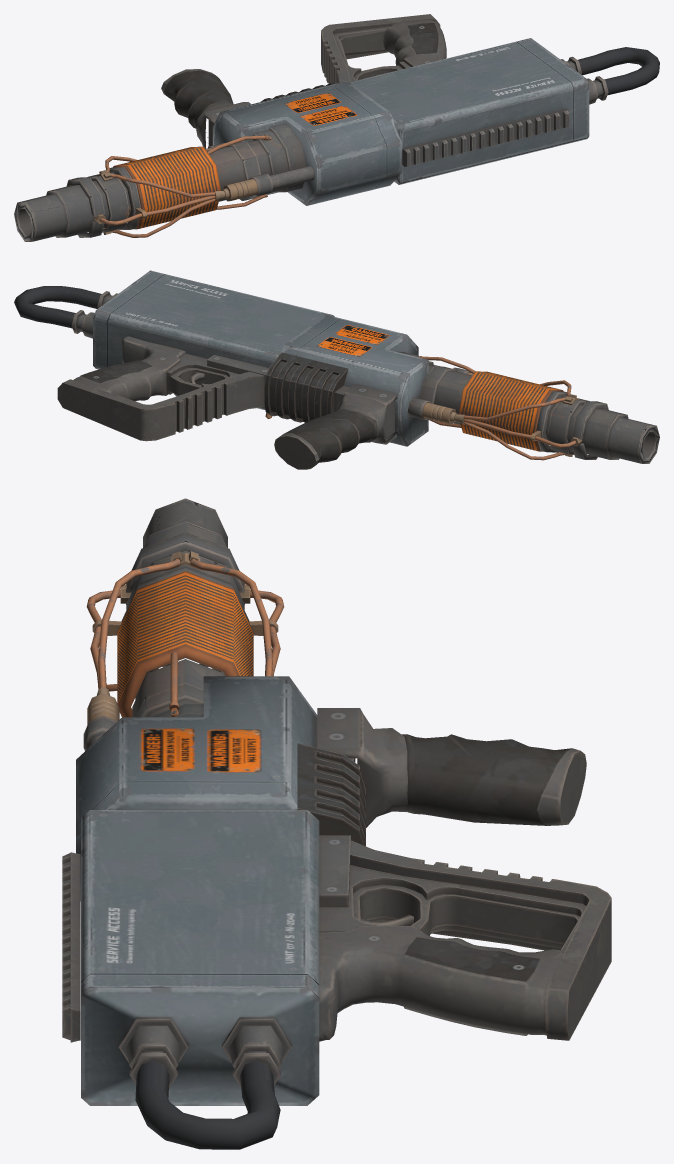
File: phantom-gun.glb
3 views of the same model, one above another, from view 1: azimuth 30°, elevation 25°; view 2: azimuth 150°, elevation 25°; view 3: azimuth 270°, elevation 25° (orthographic). The views are drawn at different scales.
Parts seen in each view (by area): view 1: protonEmitterGun(Clone); view 2: protonEmitterGun(Clone); view 3: protonEmitterGun(Clone).
Boxes of the visible parts, x1,y1,x2,y2 form: protonEmitterGun(Clone): (14, 14, 659, 241); protonEmitterGun(Clone): (14, 270, 659, 469); protonEmitterGun(Clone): (62, 498, 611, 1149).
Bounding box in the file's own units: 3.01 × 0.3784 × 1.15.
1 material, 1 textured.
